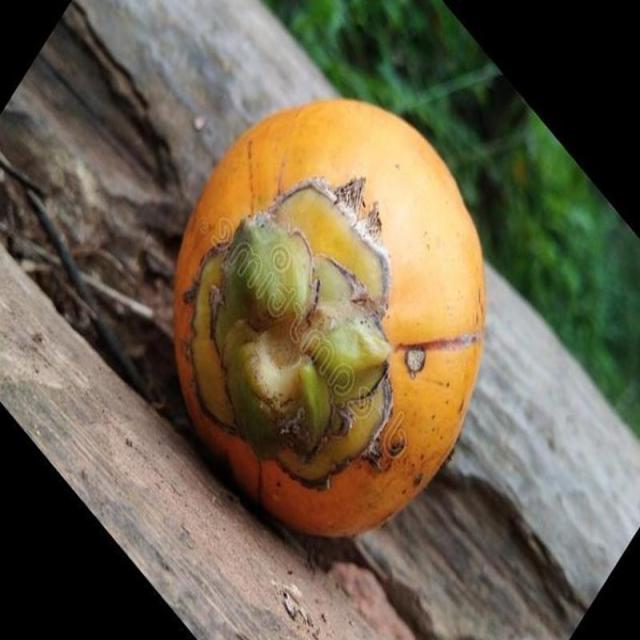good: (170, 99, 487, 544)
